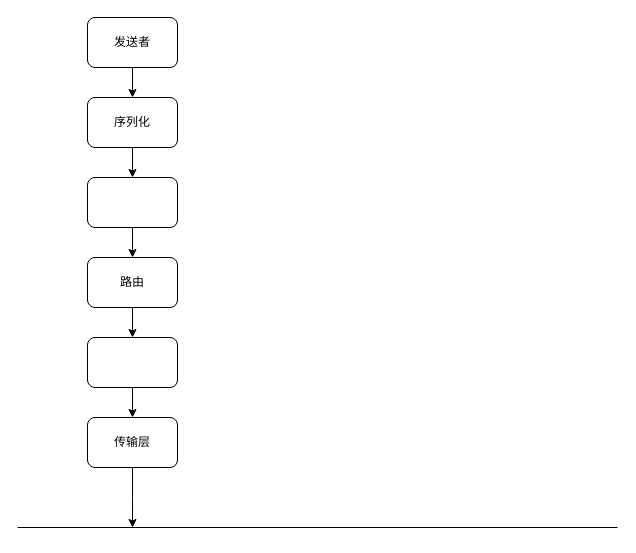
This 636x553 diagram has some shape labels left out. The centre of each missing label's shape, as x and y in pixels:
"编码" goes at point (132, 202).
"负载均衡" goes at point (132, 362).
